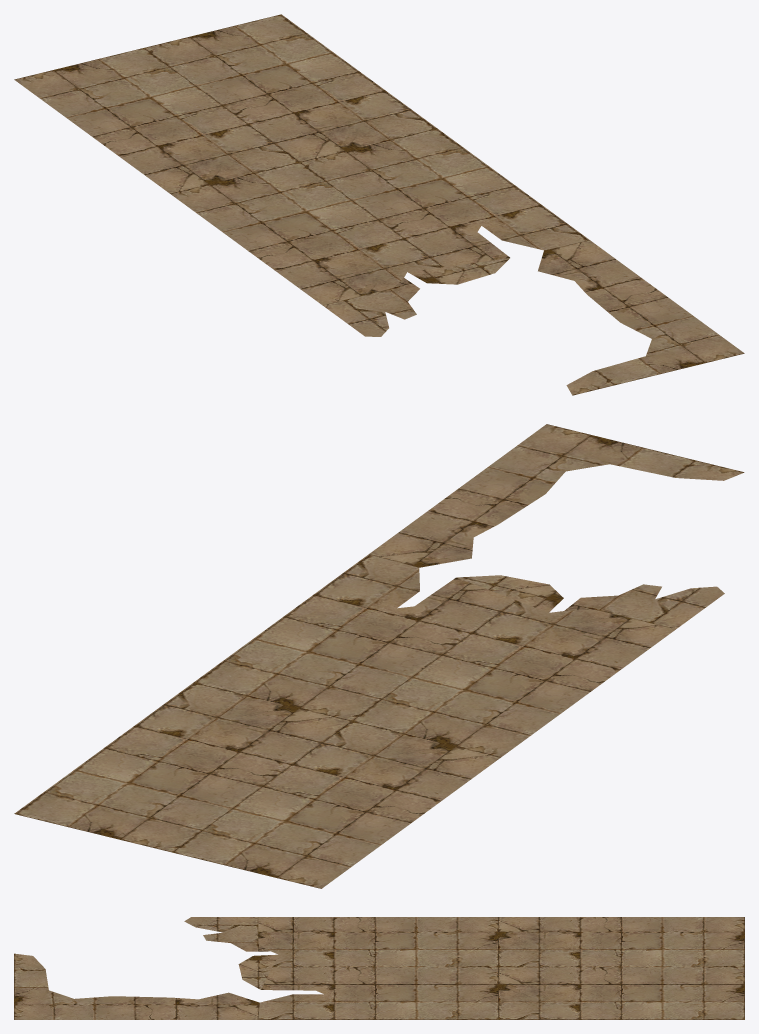
The model's file is Ground02_Terrain_LostTemple_003.FBX.
The picture shows the model from 3 angles, top to bottom: view 1: azimuth 30°, elevation 25°; view 2: azimuth 150°, elevation 25°; view 3: azimuth 270°, elevation 25°; orthographic projection. The views are drawn at different scales.
Visible parts, largest first — view 1: Ground02_Terrain_LostTemple_003; view 2: Ground02_Terrain_LostTemple_003; view 3: Ground02_Terrain_LostTemple_003.
Part boxes in pixels (x1,y1,x2,y2): Ground02_Terrain_LostTemple_003: (14, 14, 744, 395); Ground02_Terrain_LostTemple_003: (14, 424, 744, 888); Ground02_Terrain_LostTemple_003: (14, 917, 744, 1019).
Size of the model in its own units: 583 by 0.000128 by 1748.
Materials: 1 (1 with a texture image).
